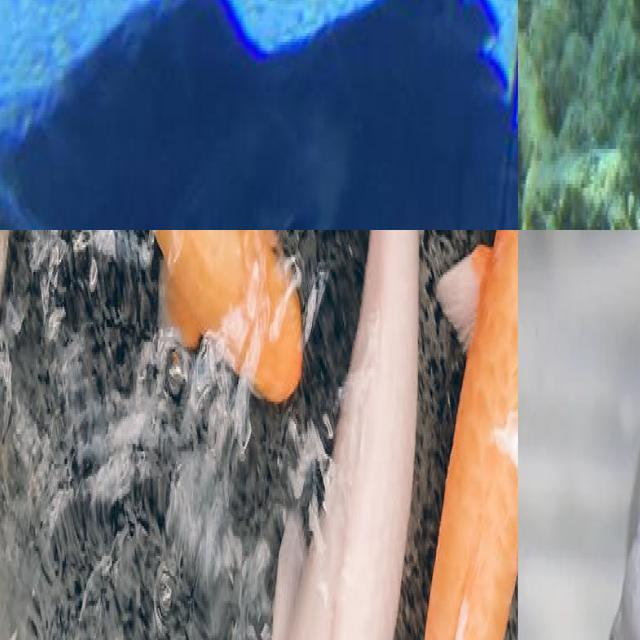fish: (0, 230, 470, 640), (0, 0, 518, 230)
